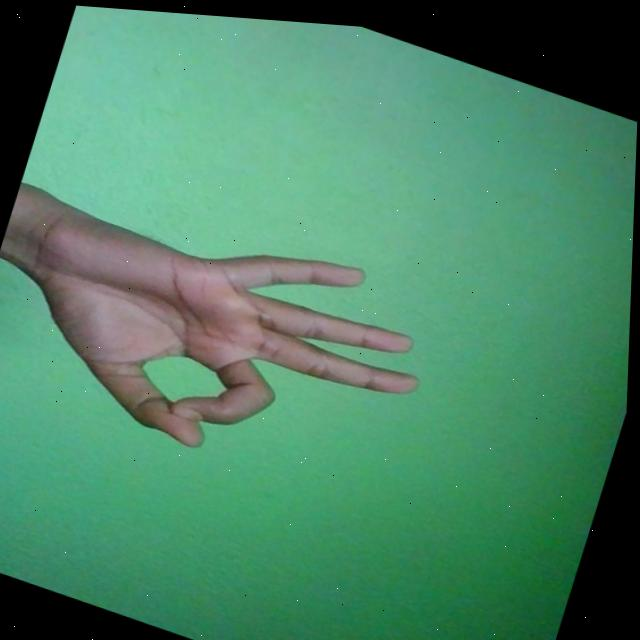Ok: (0, 157, 449, 508)
